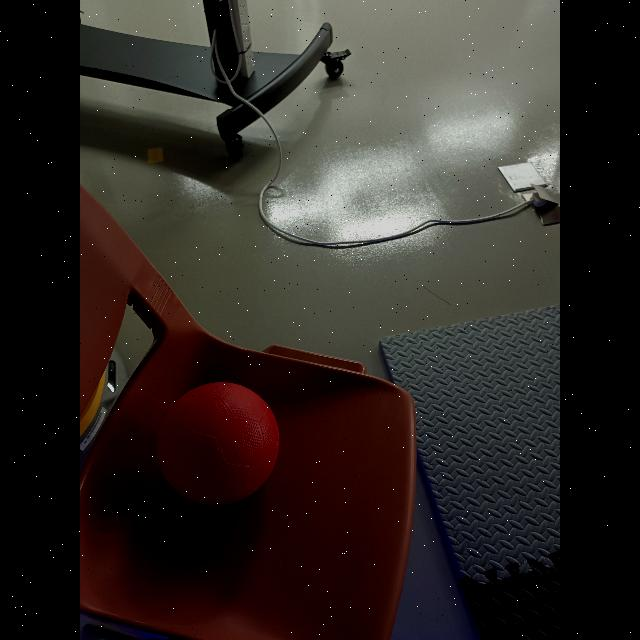R: (154, 379, 280, 503)
